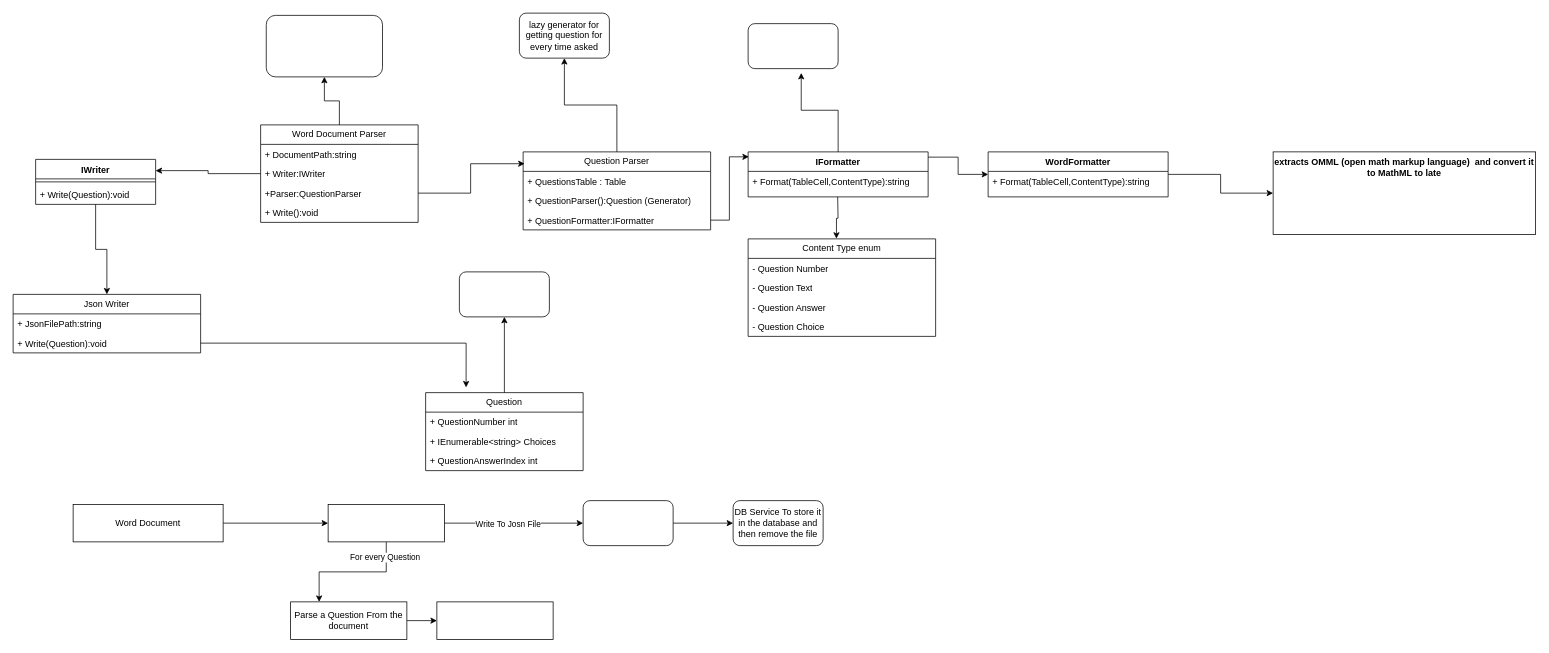
Image size: 1549x653. Some labels were removed from this diagram. Here are the shapes that lost their labels. From the top down, the centre of each, then its label:
At point 324,46: "parser for reading the document for every question without loading in memory".
At point 792,46: "Get the Text From the word and convert it into json-friendly format".
At point 504,294: "Representation of the question to pass it to the json writer".
At point 385,523: "Parser.Write()".
At point 627,523: "TempJsonFile".
At point 494,620: "Write The question object into json file".
